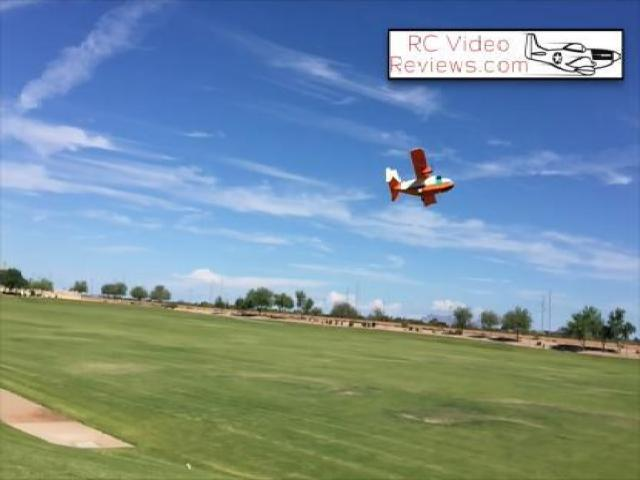uav: (381, 137, 456, 220)
